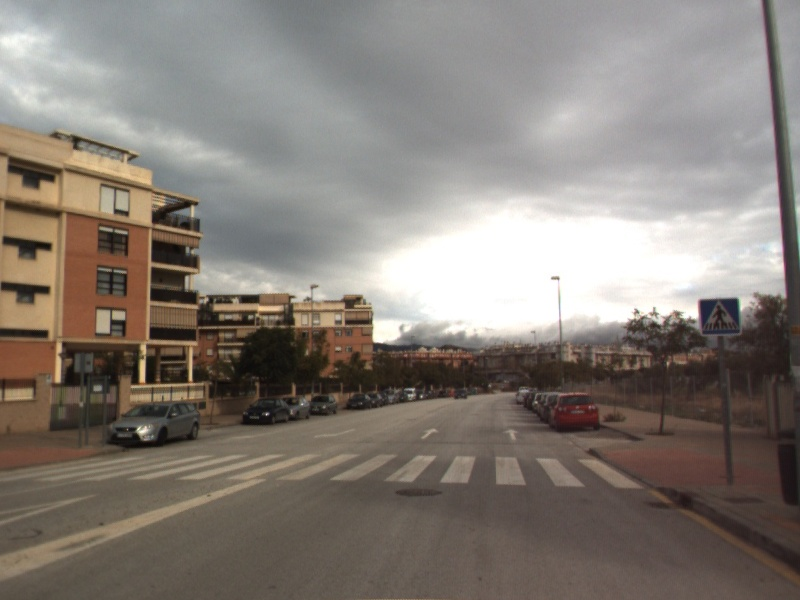STRAIGHT: (501, 426, 522, 442), (419, 426, 441, 441)
